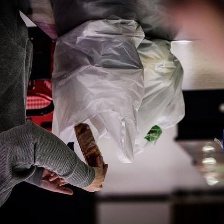plastic_bag: (38, 12, 149, 171), (114, 32, 188, 162)
